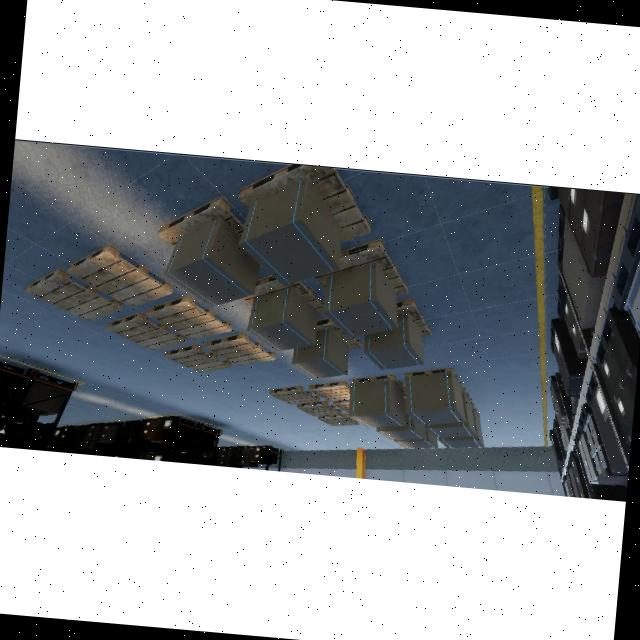wooden_pallet: (236, 163, 373, 244), (67, 242, 173, 308), (313, 240, 410, 296), (24, 268, 122, 321), (158, 194, 247, 249), (146, 295, 233, 340), (104, 312, 186, 351), (202, 334, 276, 366), (165, 345, 231, 373), (393, 300, 431, 337), (404, 368, 462, 388), (350, 373, 405, 392), (268, 386, 320, 405), (307, 382, 350, 402), (295, 401, 342, 416), (318, 413, 359, 426), (333, 399, 349, 413)
